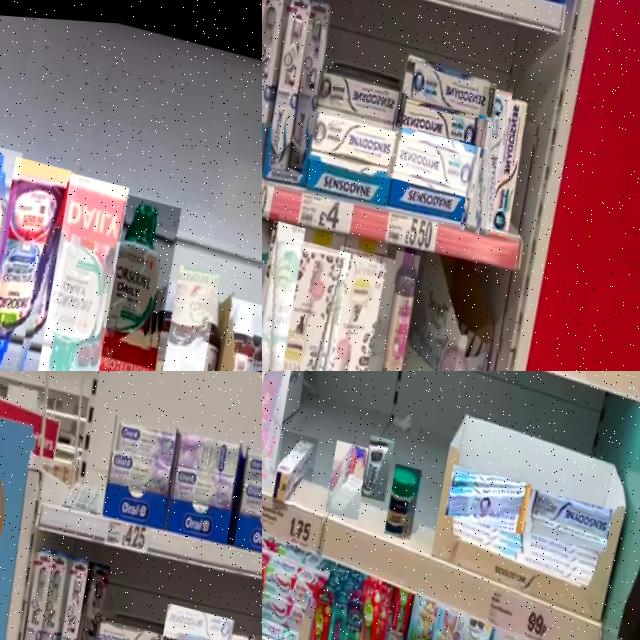Other: (30, 166, 133, 371), (0, 151, 83, 371), (92, 187, 185, 366), (264, 234, 351, 371), (312, 241, 395, 371), (156, 258, 220, 371), (366, 244, 421, 371), (262, 216, 307, 371), (0, 132, 27, 359), (211, 290, 262, 371), (262, 371, 293, 487), (381, 459, 423, 537), (262, 202, 280, 365), (356, 431, 394, 499)
Toothbrush: (3, 539, 60, 640), (22, 541, 76, 640), (42, 553, 95, 640), (59, 557, 112, 640), (334, 581, 392, 640), (380, 585, 437, 640), (288, 579, 339, 640), (401, 593, 460, 640), (304, 586, 352, 640), (318, 591, 367, 640), (431, 602, 491, 640), (453, 612, 520, 640)
Toothpaste: (454, 79, 515, 233), (479, 88, 532, 236), (385, 121, 480, 194), (305, 105, 401, 177), (442, 459, 530, 529), (517, 481, 611, 546), (311, 68, 404, 129), (400, 56, 496, 113), (398, 95, 489, 154), (174, 422, 245, 480), (105, 441, 177, 497), (268, 427, 318, 507), (321, 436, 369, 518), (167, 457, 239, 511), (262, 554, 324, 610), (112, 415, 180, 463), (159, 599, 233, 640), (91, 615, 165, 640), (237, 469, 262, 522), (242, 442, 262, 491)
